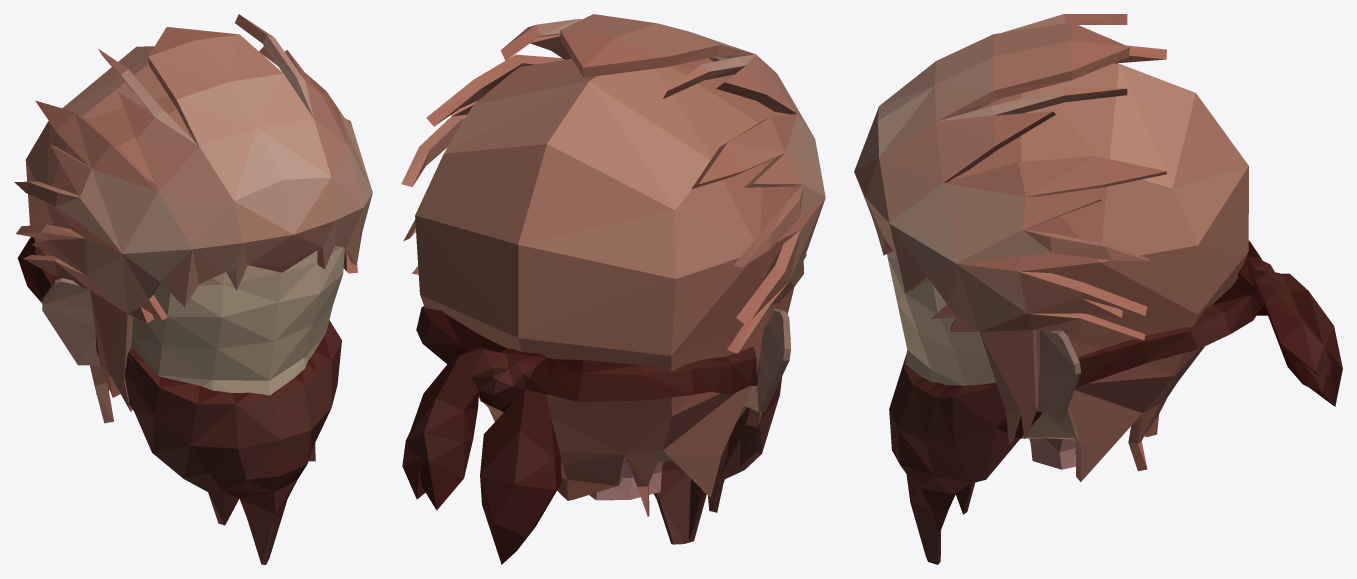
Rendered from helm_lightskin_spike_blonde_bandana.fbx.
3 renders of one model, left to right at view 1: azimuth 30°, elevation 25°; view 2: azimuth 150°, elevation 25°; view 3: azimuth 270°, elevation 25°, orthographic. The views are drawn at different scales.
Parts seen in each view (by area): view 1: helm_lightskin_spike_blonde_bandana; view 2: helm_lightskin_spike_blonde_bandana; view 3: helm_lightskin_spike_blonde_bandana.
Part boxes in pixels (left/top/right/bottom): helm_lightskin_spike_blonde_bandana: left=14, top=14, right=372, bottom=564; helm_lightskin_spike_blonde_bandana: left=401, top=14, right=825, bottom=564; helm_lightskin_spike_blonde_bandana: left=854, top=14, right=1342, bottom=564.
Bounding box in the file's own units: 1.13 × 1.71 × 1.46.
